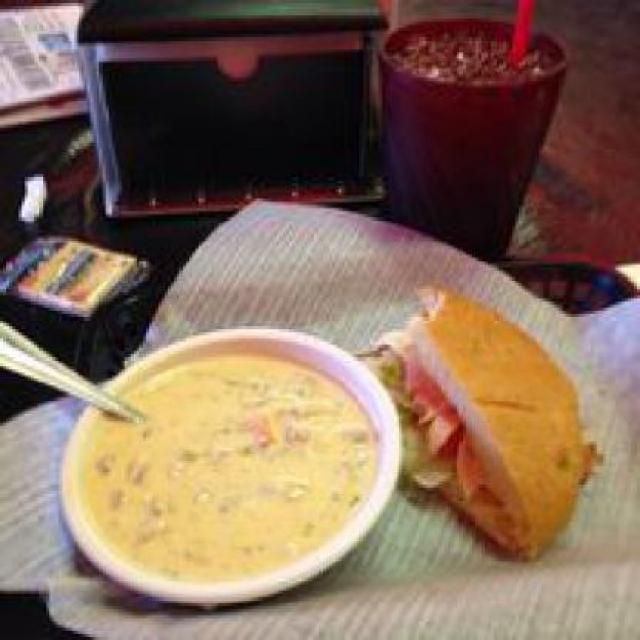clam chowder: (69, 305, 376, 609)
club sandwich: (388, 282, 594, 553)
